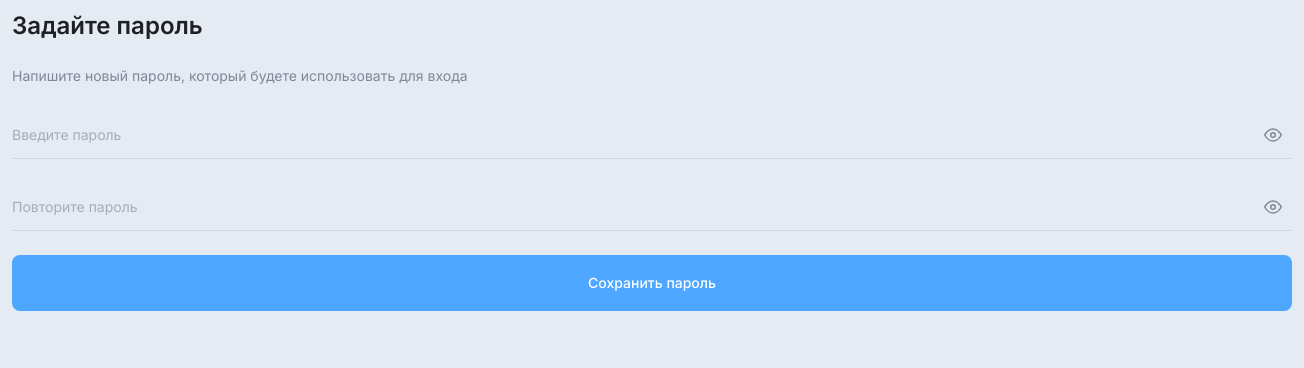
Test: ResetPasswordForm › shows validation error when fields are empty on submit
Click the button "Сохранить пароль" at (652, 283), box [12,255,1292,311]
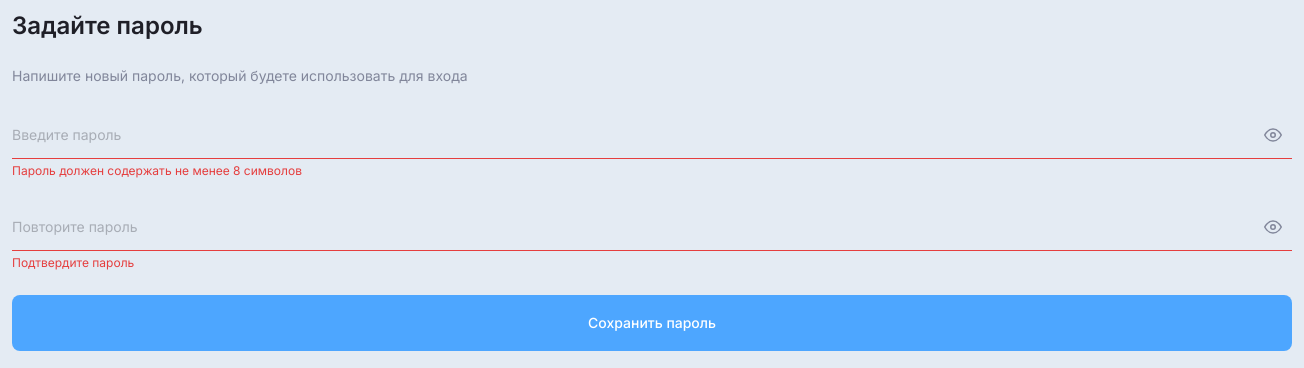
Expected: the text "Пароль должен содержать не менее 8 символов" is shown, [12,163,302,178]
